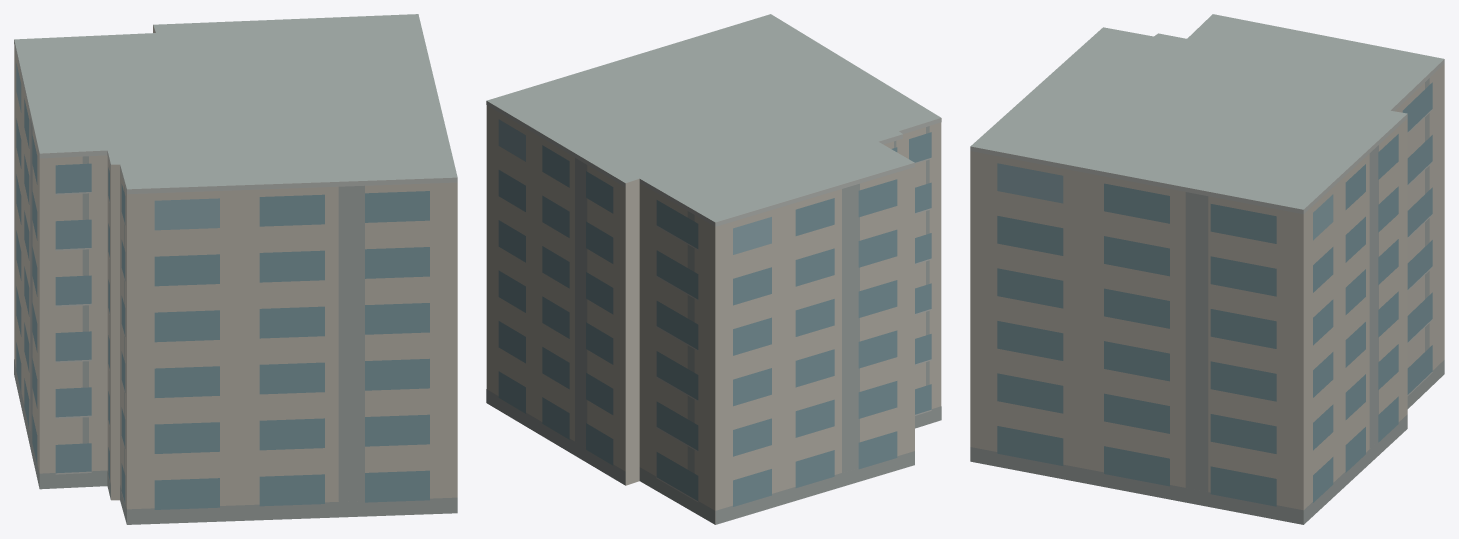
The model's file is survey-upis-32633713.glb.
The picture shows the model from 3 angles, left to right: view 1: azimuth 30°, elevation 25°; view 2: azimuth 150°, elevation 25°; view 3: azimuth 270°, elevation 25°; orthographic projection. The views are drawn at different scales.
Visible parts, largest first — view 1: survey-upis-32633713.tmp; view 2: survey-upis-32633713.tmp; view 3: survey-upis-32633713.tmp.
Part boxes in pixels (x1,y1,x2,y2): survey-upis-32633713.tmp: [14, 14, 457, 524]; survey-upis-32633713.tmp: [486, 14, 941, 524]; survey-upis-32633713.tmp: [970, 14, 1444, 524].
Size of the model in its own units: 22.25 by 16.7 by 22.79.
